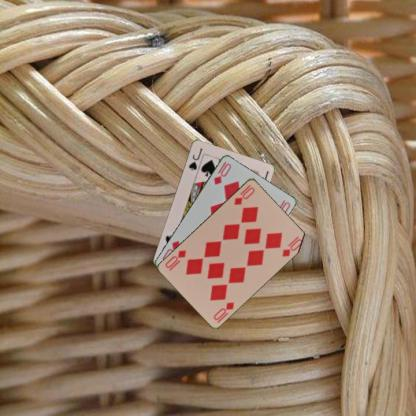10d: (231, 182, 256, 206), (211, 300, 236, 322), (211, 161, 232, 186)
Js: (186, 145, 204, 172)
